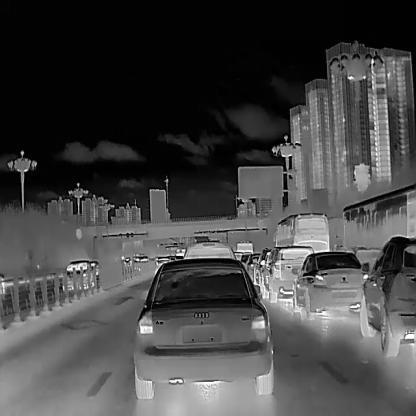car: (132, 257, 277, 400), (359, 231, 416, 356), (336, 181, 415, 266), (290, 250, 364, 319), (259, 245, 318, 302), (273, 212, 330, 254), (61, 258, 97, 290), (183, 239, 235, 258), (154, 255, 174, 276), (235, 238, 254, 255)
